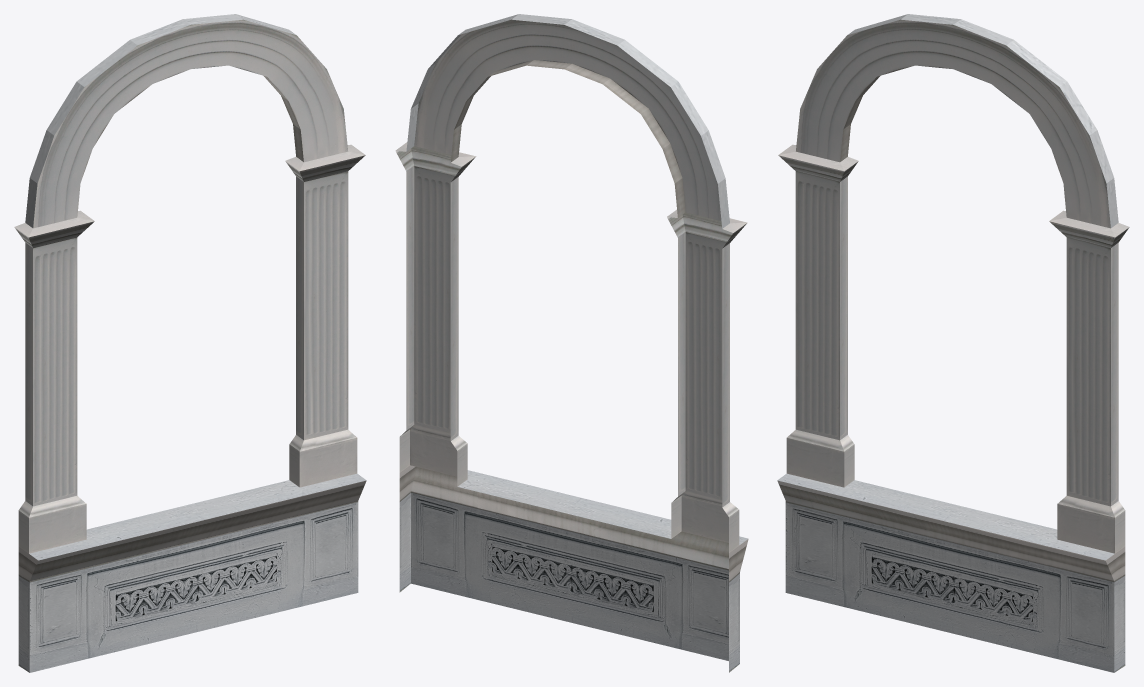
The model's file is WindowframeRounded1A.fbx.
3 renders of one model, left to right at view 1: azimuth 30°, elevation 25°; view 2: azimuth 150°, elevation 25°; view 3: azimuth 330°, elevation 25°, orthographic.
Visible parts, largest first — view 1: WindowframeRounded1A; view 2: WindowframeRounded1A; view 3: WindowframeRounded1A.
Boxes of the visible parts, x1,y1,x2,y2 form: WindowframeRounded1A: (14, 14, 366, 672); WindowframeRounded1A: (395, 14, 748, 672); WindowframeRounded1A: (777, 14, 1129, 672).
Bounding box in the file's own units: 208 × 358 × 21.1.
